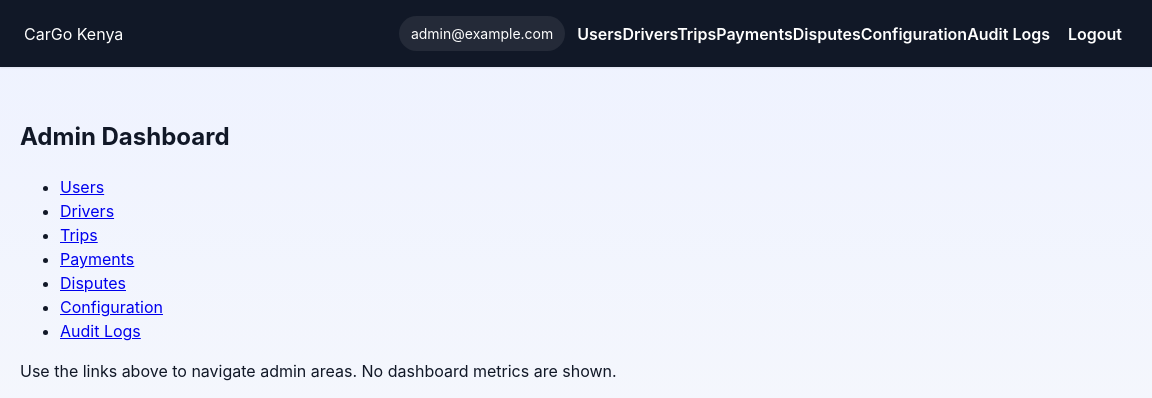
Test: admin frontend integration flows › navigates from the admin dashboard to the trips page and loads trip rows
expect the heading "Admin Dashboard" is shown: met, box x1=20 y1=122 x2=230 y2=151
Click the link "Trips" in the row of "admin@example.com" at [697, 34], box x1=677 y1=24 x2=716 y2=44
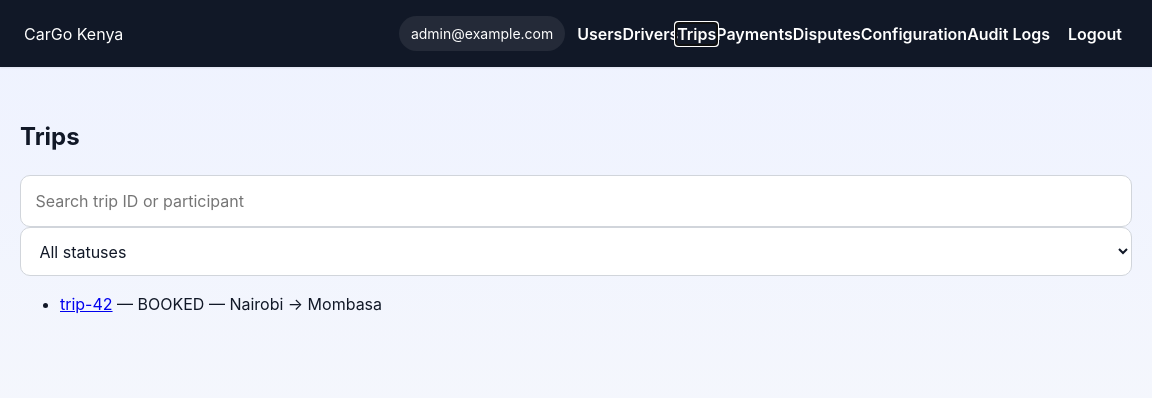
expect the heading "Trips" is shown: met, box x1=20 y1=122 x2=80 y2=151
expect the link "trip-42" is shown: met, box x1=60 y1=294 x2=112 y2=314
expect the list item "trip-42 — BOOKED — Nairobi → Mombasa" is shown: met, box x1=60 y1=294 x2=382 y2=314
